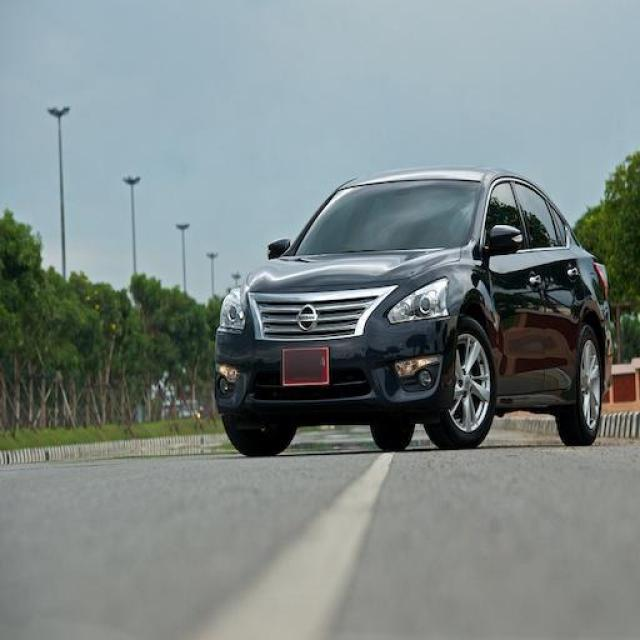back_left_door: (513, 176, 583, 390)
front_bumper: (214, 276, 459, 428)
front_glass: (287, 179, 482, 255)
front_left_door: (482, 175, 549, 394)
front_left_light: (388, 277, 452, 322)
front_right_light: (221, 285, 244, 330)
hood: (247, 246, 463, 287)
left_mirror: (485, 225, 524, 258)
right_mirror: (268, 238, 291, 262)
wheel: (227, 317, 497, 459), (556, 325, 604, 446)
